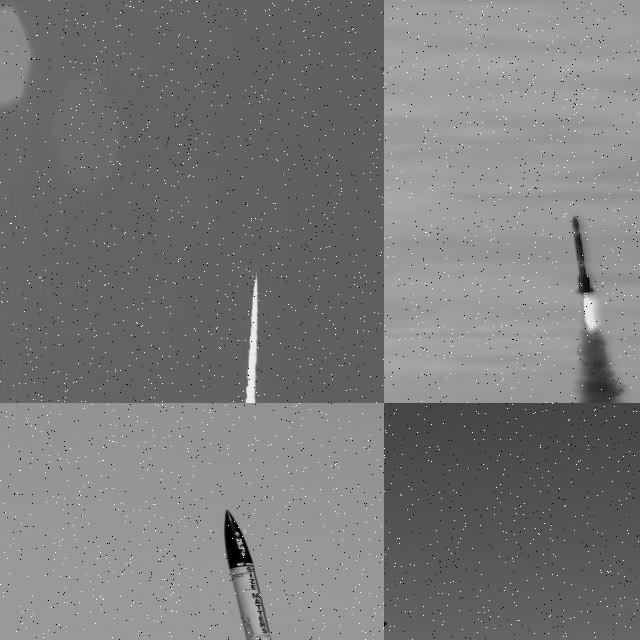Rocket: (222, 508, 297, 640), (572, 216, 595, 296), (255, 272, 258, 280)
